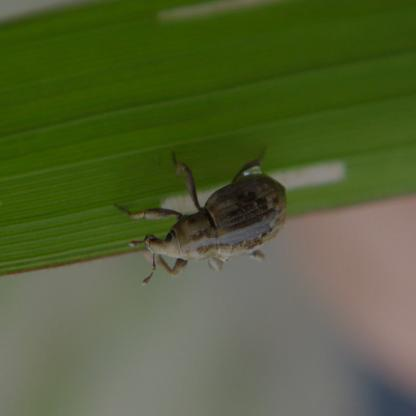rice-bug: (130, 150, 291, 288)
